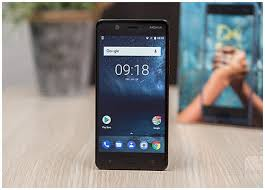nokia: (90, 16, 173, 173)
